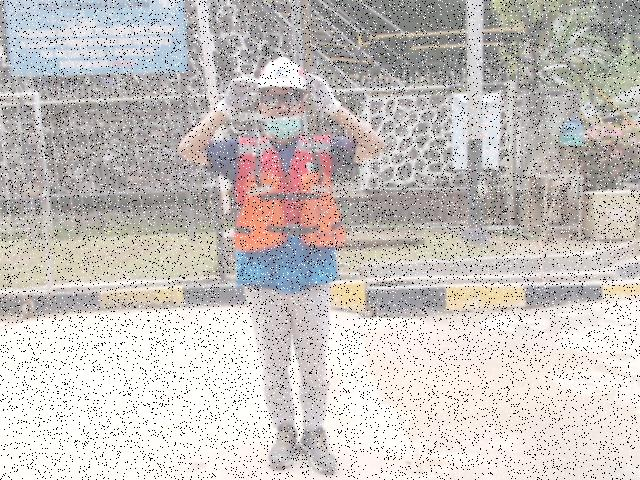glasses: (262, 92, 303, 107)
gloves: (216, 73, 258, 120), (306, 72, 341, 116)
helmet: (258, 57, 308, 92)
mask: (264, 116, 301, 138)
safety-shoes: (299, 427, 338, 477), (266, 422, 296, 470)
vest: (234, 171, 345, 249)
